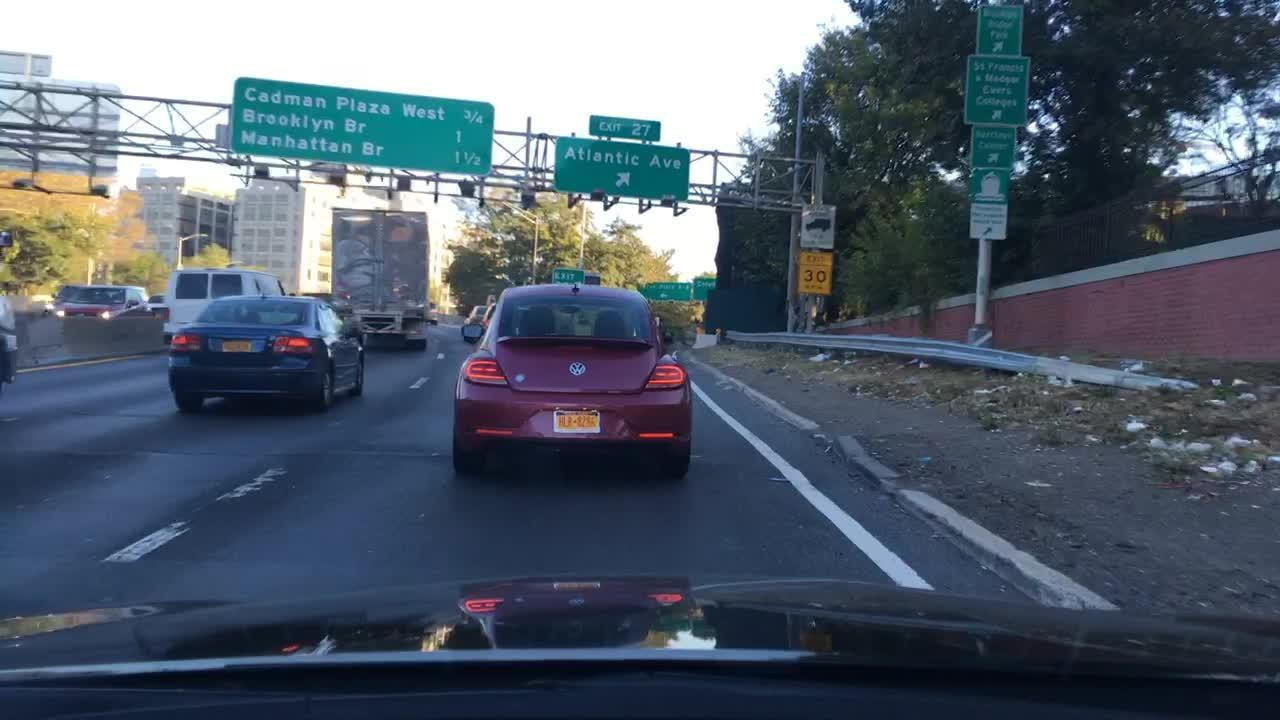Volkswagen: (562, 353, 595, 384)
